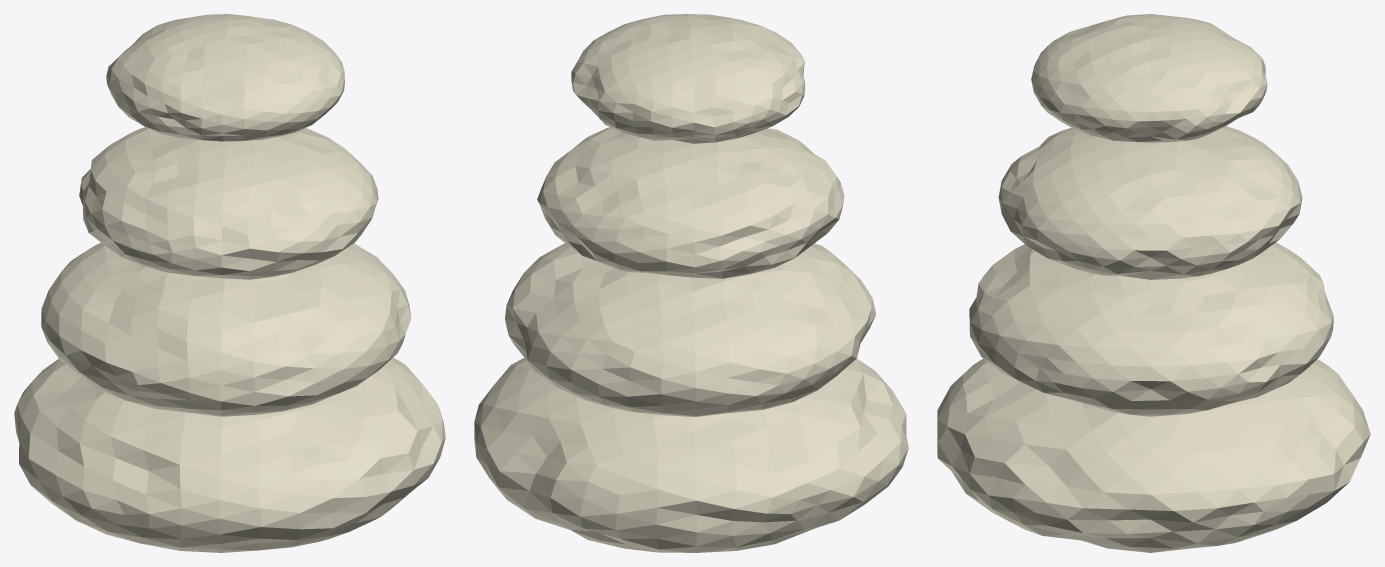
File: wilderness-survival-camp-trail-cairn-4a78d0a9__21976.glb
3 views of the same model, side by side, from view 1: azimuth 30°, elevation 25°; view 2: azimuth 150°, elevation 25°; view 3: azimuth 270°, elevation 25° (orthographic).
Visible parts, largest first — view 1: trail-cairn; view 2: trail-cairn; view 3: trail-cairn.
Boxes of the visible parts, x1,y1,x2,y2 form: trail-cairn: [14, 14, 445, 552]; trail-cairn: [474, 14, 908, 552]; trail-cairn: [937, 14, 1370, 552].
Bounding box in the file's own units: 0.3086 × 0.3539 × 0.3125.
